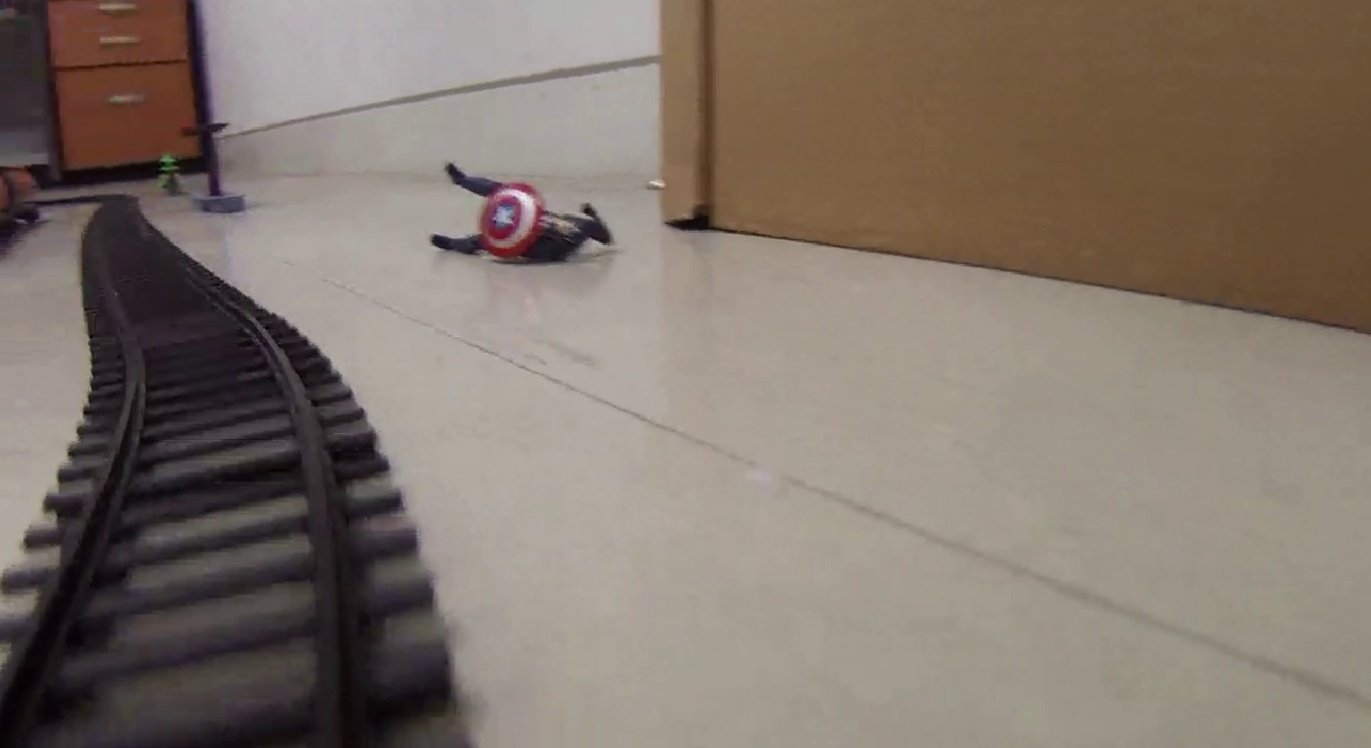people: (432, 163, 615, 266)
